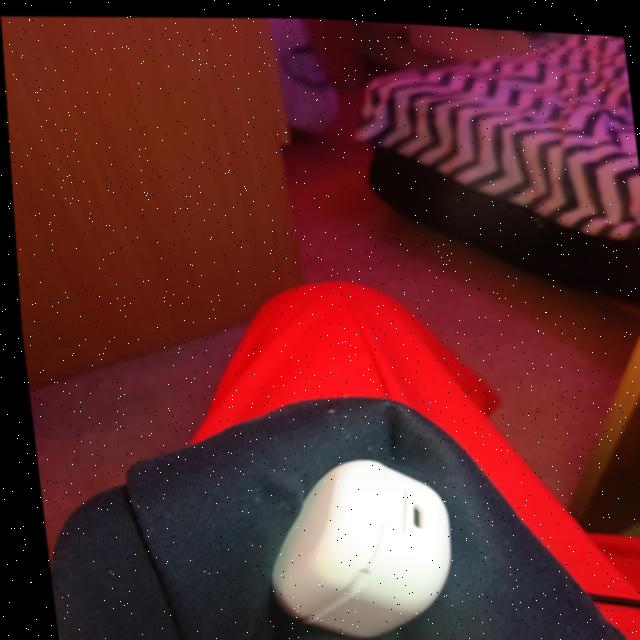headphones: (264, 456, 444, 634)
